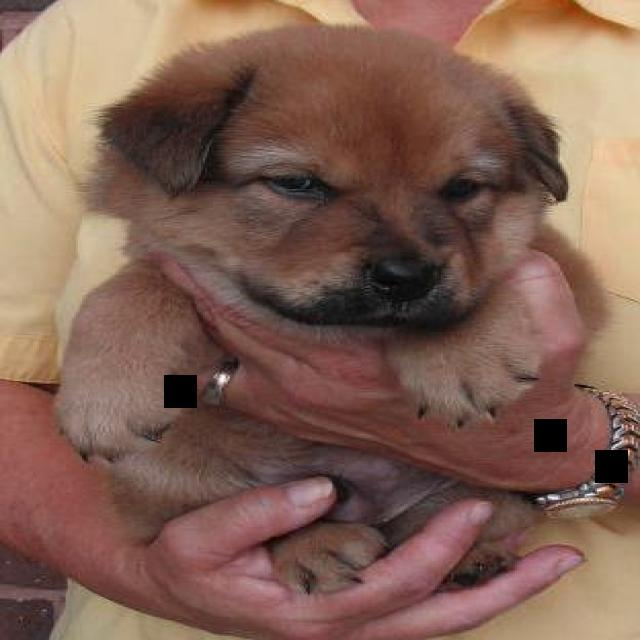puppy-dog: (49, 17, 617, 596)
